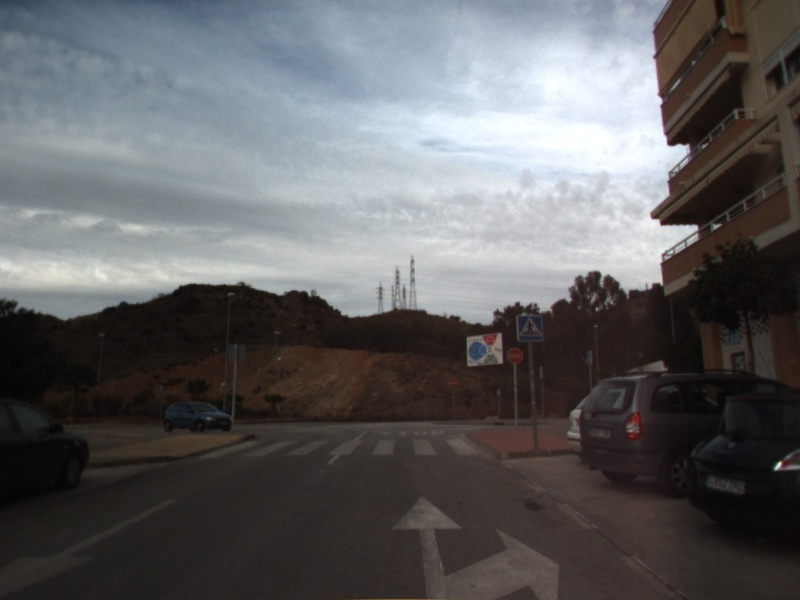STRAIGHT_RIGHT: (389, 491, 563, 600)
